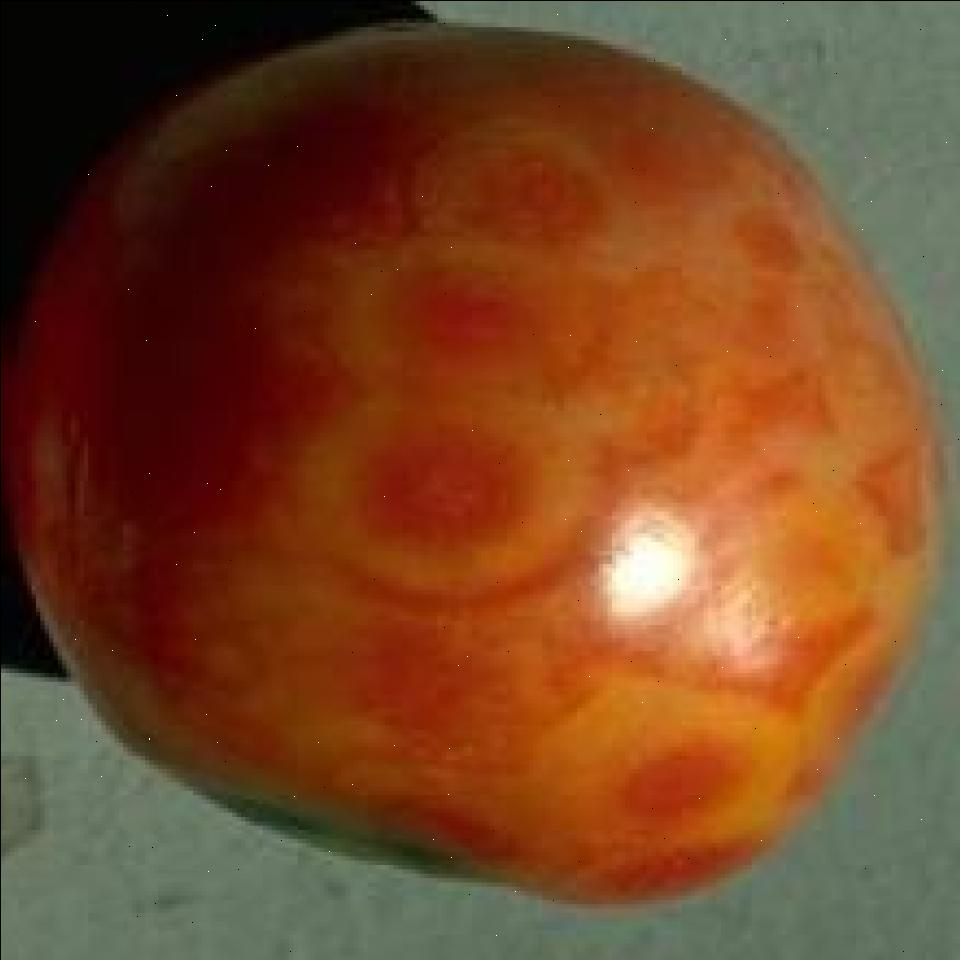Spotted wilt Virus: (13, 18, 937, 902)
